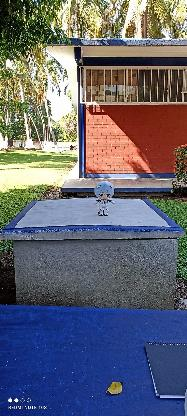rei-plush: (83, 178, 122, 226)
